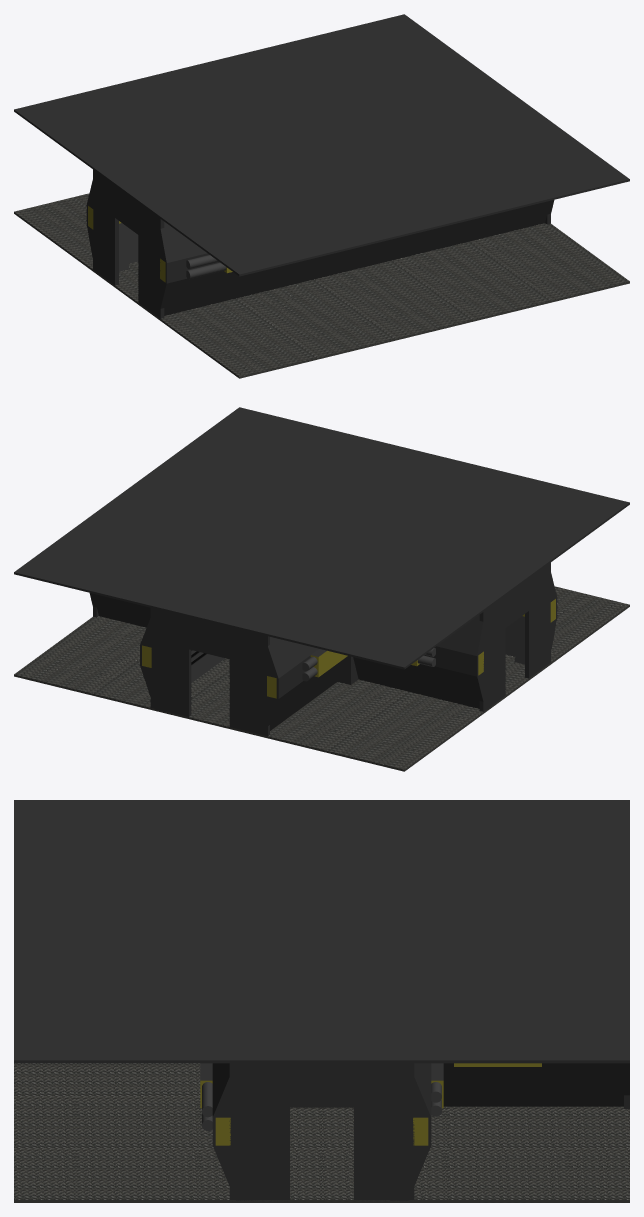
The model's file is New3Ways1.fbx.
3 views of the same model, one above another, from view 1: azimuth 30°, elevation 25°; view 2: azimuth 150°, elevation 25°; view 3: azimuth 270°, elevation 25° (orthographic). The views are drawn at different scales.
Visible parts, largest first — view 1: Cube.004, Cube.009, Cube.002, Cube.005, Cube.003; view 2: Cube.004, Cube.009, Cube.008, Cube.003, Cube.005, Cube.006, Cube.007, Cube.002; view 3: Cube.004, Cube.009, Cube.001, Cube.007, Cube.003, Cube.002.
Part boxes in pixels (<box>): Cube.004: <box>14,14,629,276</box>; Cube.009: <box>14,193,629,378</box>; Cube.002: <box>151,200,554,317</box>; Cube.005: <box>93,169,164,318</box>; Cube.003: <box>86,171,138,275</box>; Cube.004: <box>14,407,629,669</box>; Cube.009: <box>14,586,629,771</box>; Cube.008: <box>150,608,269,736</box>; Cube.003: <box>89,593,492,710</box>; Cube.005: <box>479,562,550,711</box>; Cube.006: <box>252,631,347,735</box>; Cube.007: <box>140,608,224,712</box>; Cube.002: <box>505,564,557,668</box>; Cube.004: <box>14,800,629,1063</box>; Cube.009: <box>14,1063,629,1202</box>; Cube.001: <box>229,1062,414,1201</box>; Cube.007: <box>443,1063,629,1106</box>; Cube.003: <box>390,1062,443,1200</box>; Cube.002: <box>200,1063,253,1200</box>.
Bounding box in the file's own units: 4000 × 1020 × 4000.
